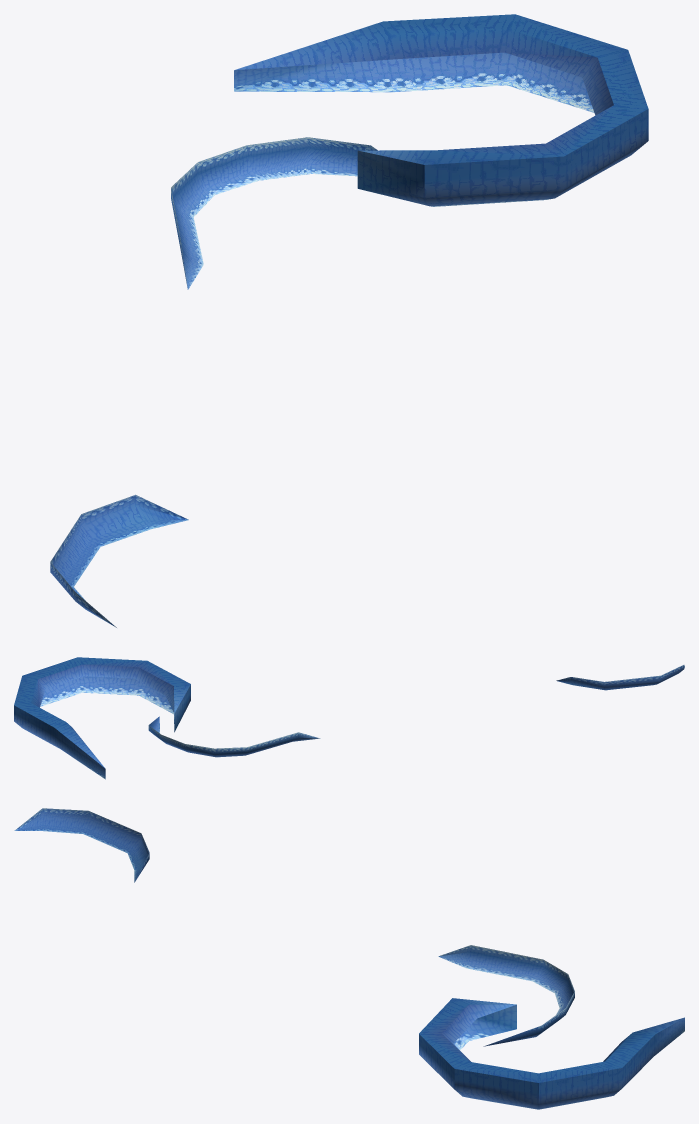
File: object_21_lev2.glb
3 renders of one model, top to bottom at view 1: azimuth 30°, elevation 25°; view 2: azimuth 150°, elevation 25°; view 3: azimuth 270°, elevation 25°, orthographic. The views are drawn at different scales.
Visible parts, largest first — view 1: object_21_lev2; view 2: object_21_lev2; view 3: object_21_lev2.
Boxes of the visible parts, x1=… form: object_21_lev2: x1=50, y1=14, x2=648, y2=627; object_21_lev2: x1=14, y1=657, x2=684, y2=779; object_21_lev2: x1=14, y1=808, x2=684, y2=1109.
Size of the model in its own units: 78.09 by 4.49 by 75.12.
Materials: 1 (1 with a texture image).
